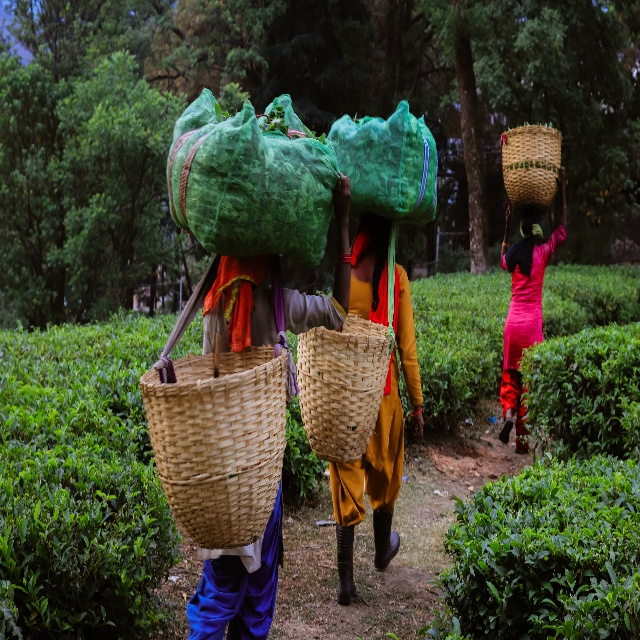Sin_guantes: (335, 170, 351, 221), (412, 409, 424, 441), (556, 166, 566, 192), (505, 202, 511, 223)
